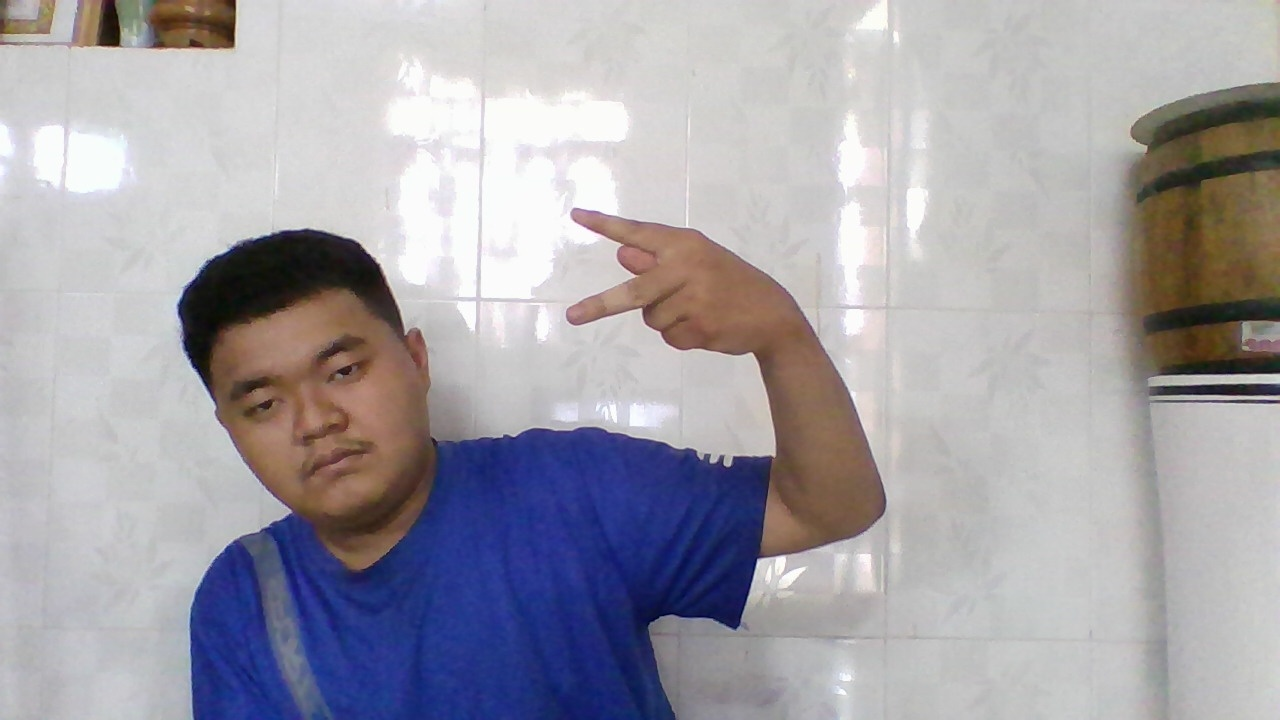K: (553, 198, 798, 357)
